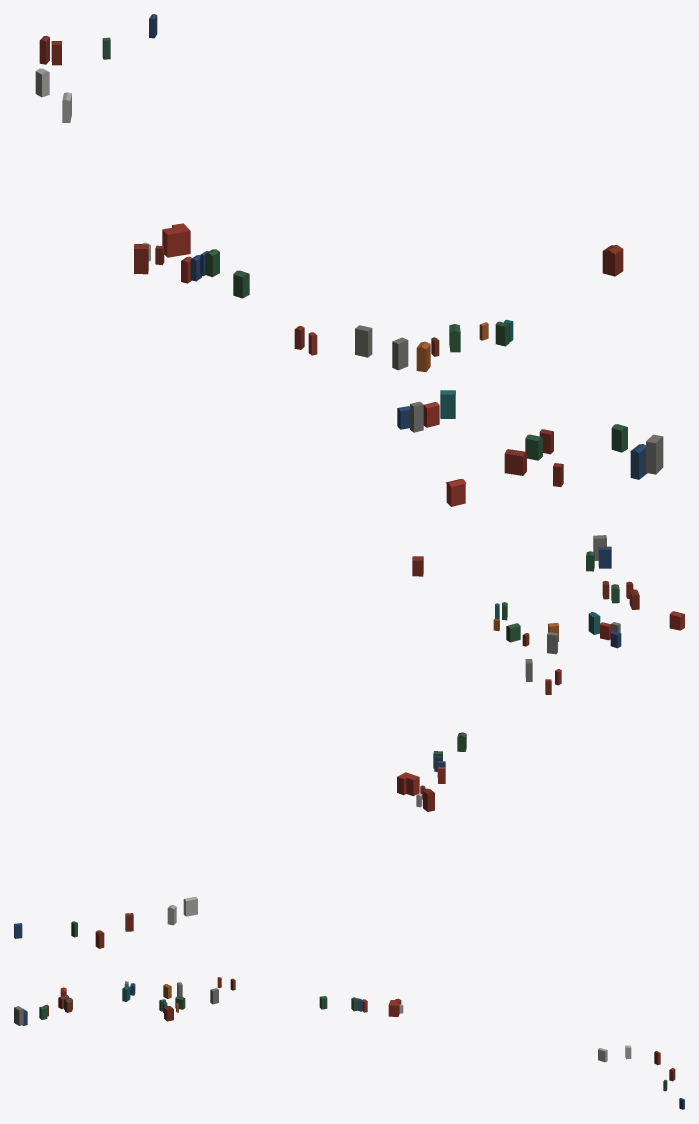
File: near-15-27349-14869.d9107695.glb
3 views of the same model, one above another, from view 1: azimuth 30°, elevation 25°; view 2: azimuth 150°, elevation 25°; view 3: azimuth 270°, elevation 25° (orthographic). The views are drawn at different scales.
Size of the model in its own units: 296 by 152 by 1046.
